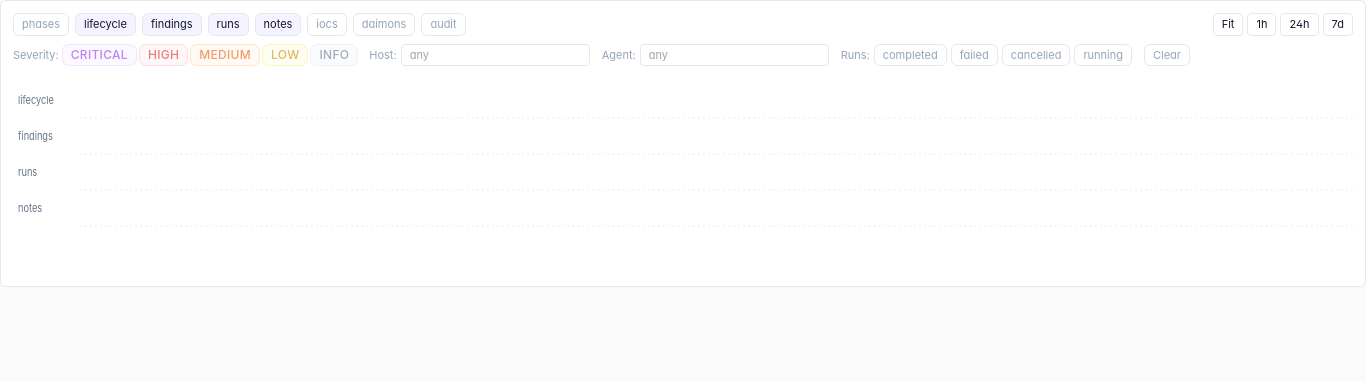
Test case: CaseTimeline filter integration › renders zero-matches banner when filter excludes every event
The width and height of the screenshot is (1366, 381).
What coordinates should you click on to do the following:
click the button "CRITICAL"
I would click on:
 (99, 55)
Its box is [63,45,136,65].
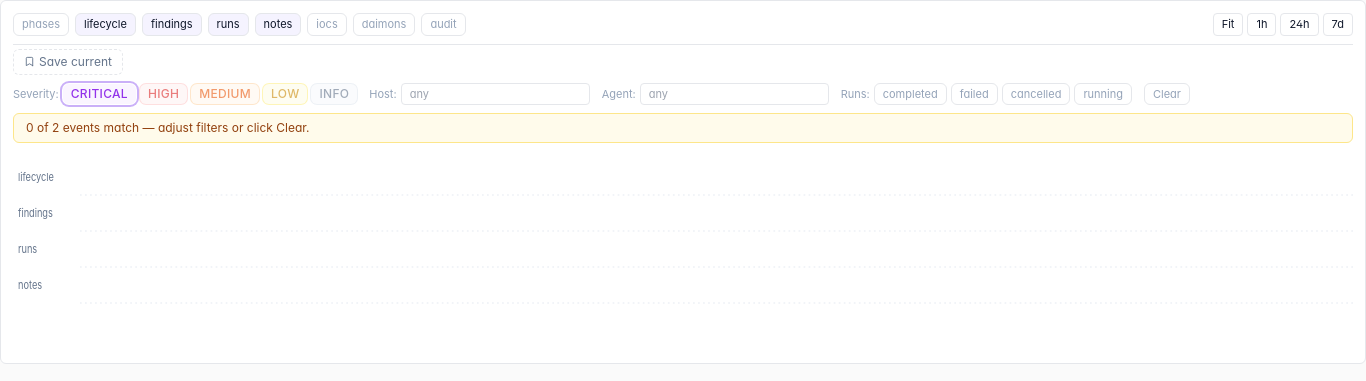
Now the text "0 of 2 events match — adjust filters or click Clear." is shown, box [13,113,1353,143]
